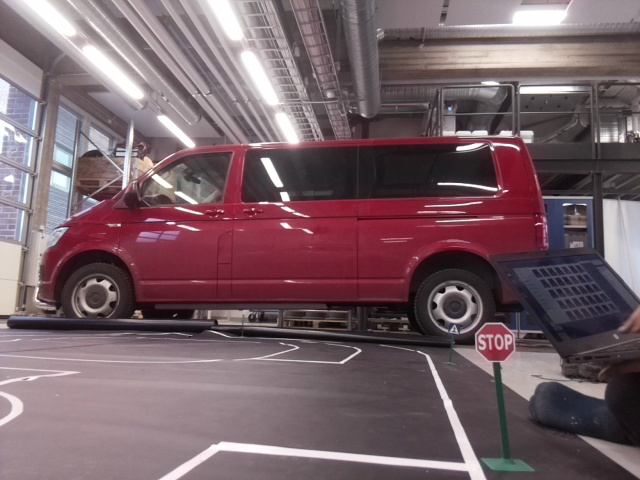Crosswalk: (449, 322, 459, 336)
Stop: (473, 321, 515, 364)
